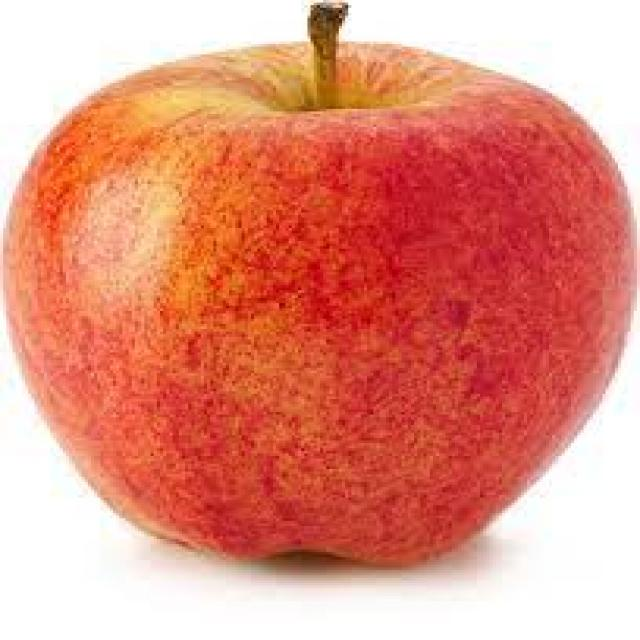Apple: (0, 5, 634, 573)
